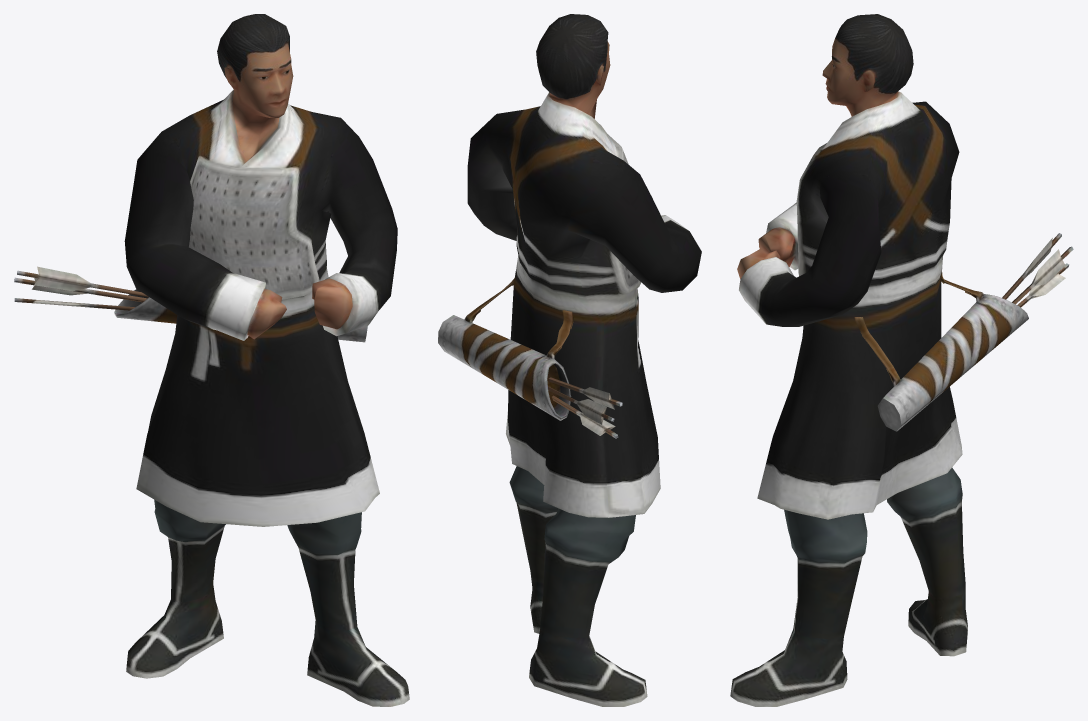
Rendered from body-mediumarchers.glb.
The picture shows the model from 3 angles, left to right: view 1: azimuth 30°, elevation 25°; view 2: azimuth 150°, elevation 25°; view 3: azimuth 270°, elevation 25°; orthographic projection. The views are drawn at different scales.
Bounding box in the file's own units: 0.8904 × 2.06 × 0.9953.
1 material, 1 textured.
